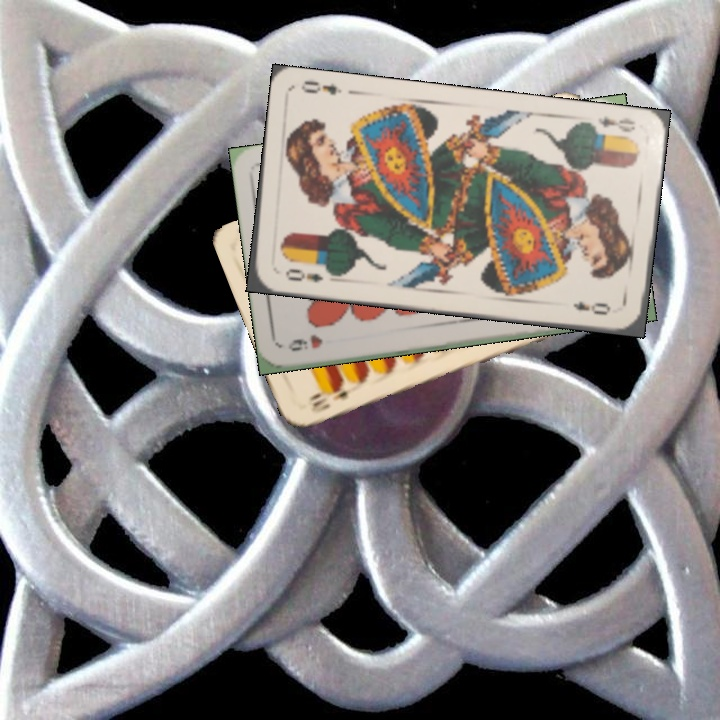E10: (307, 386, 351, 416)
EO: (594, 112, 638, 135), (281, 264, 325, 285)
H9: (284, 331, 325, 354)
